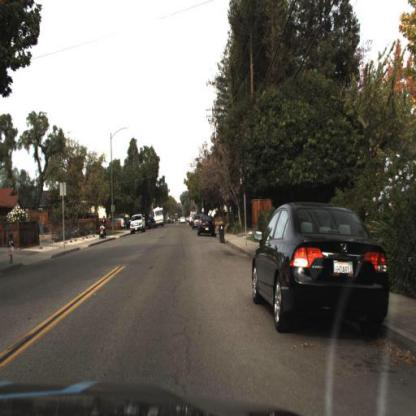car: (251, 201, 391, 337), (198, 216, 216, 239), (129, 214, 148, 234)
pedestrian: (99, 214, 109, 240), (9, 235, 15, 265)
truck: (151, 206, 165, 229)
